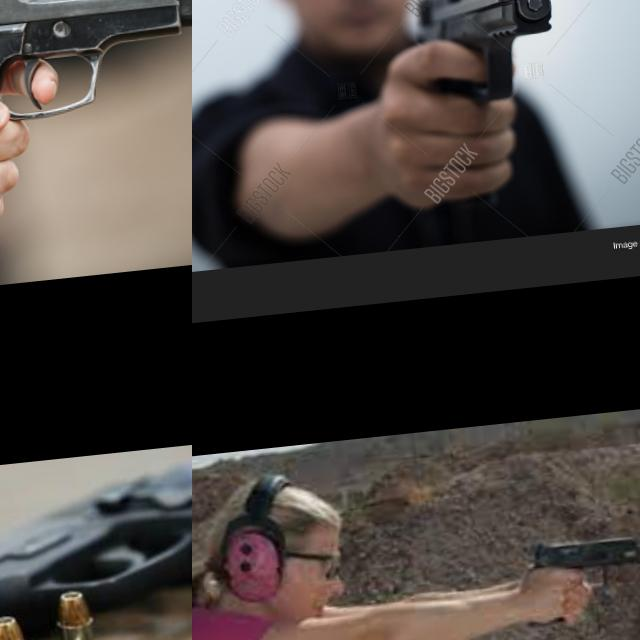handgun: (0, 435, 192, 640), (0, 0, 192, 140), (411, 0, 564, 107), (523, 526, 640, 594)
